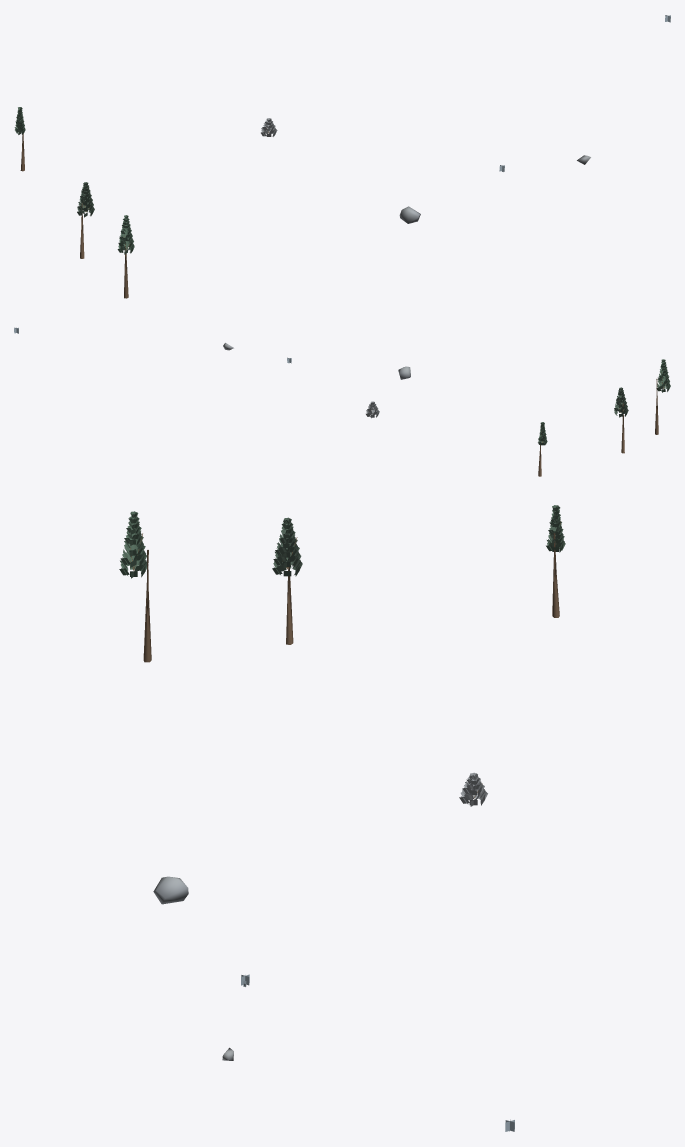
The model's file is frost_land_scatter_c23_10_lod1.glb.
3 views of the same model, one above another, from view 1: azimuth 30°, elevation 25°; view 2: azimuth 150°, elevation 25°; view 3: azimuth 270°, elevation 25° (orthographic). The views are drawn at different scales.
Parts seen in each view (by area): view 1: frost_land_scatter_c23_10_lod1; view 2: frost_land_scatter_c23_10_lod1; view 3: frost_land_scatter_c23_10_lod1.
Part boxes in pixels (left/top/right/bottom): frost_land_scatter_c23_10_lod1: left=14, top=15, right=670, bottom=298; frost_land_scatter_c23_10_lod1: left=14, top=327, right=670, bottom=476; frost_land_scatter_c23_10_lod1: left=119, top=505, right=565, bottom=1131.
Bounding box in the file's own units: 115 × 16.48 × 39.55.
